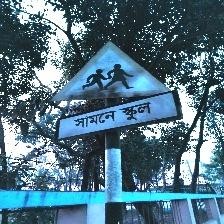School-in-front: (50, 41, 180, 142)
